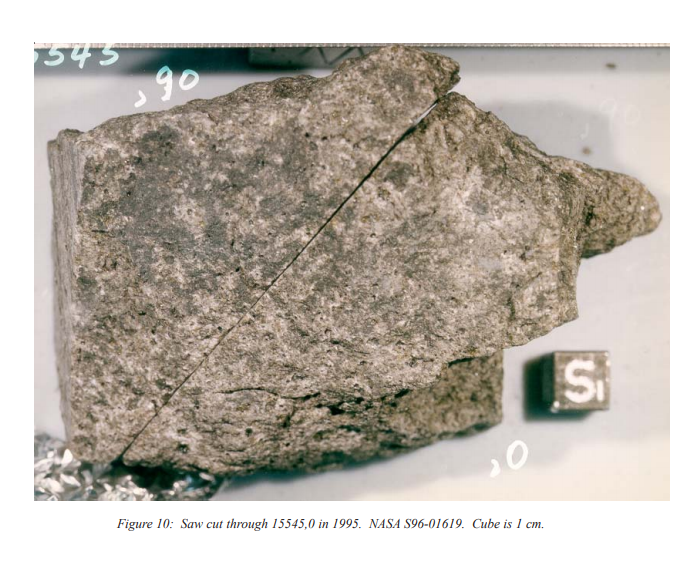Basalt: (37, 100, 518, 447), (167, 162, 417, 352)
